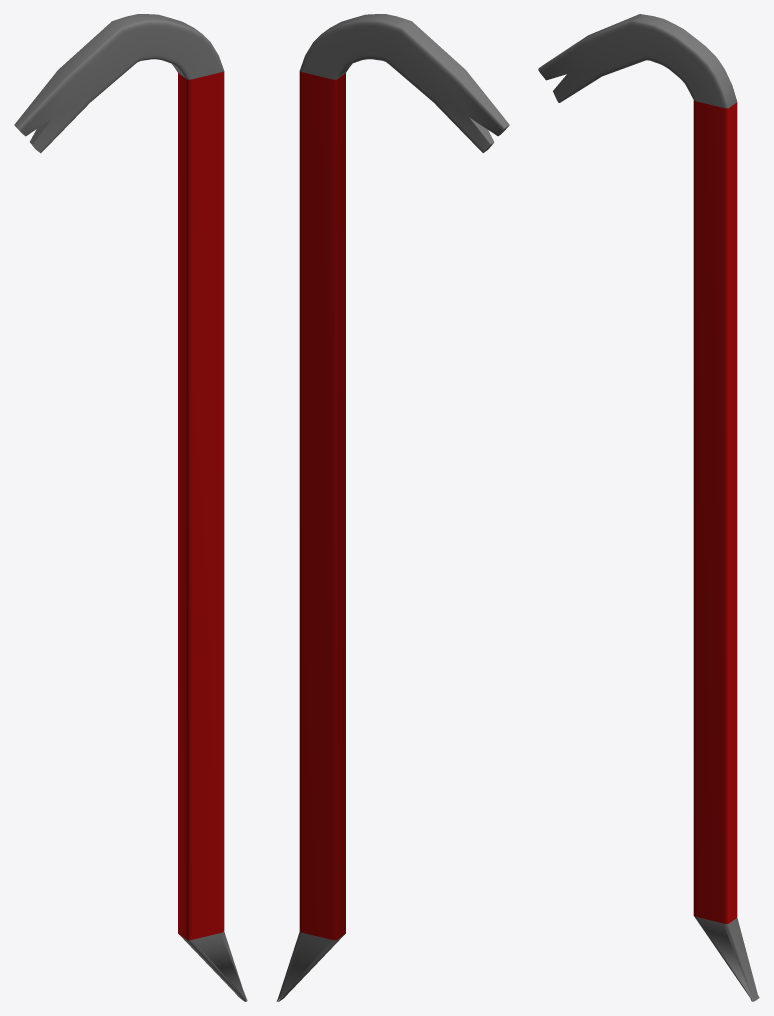
Rendered from Crowbar.FBX.
3 renders of one model, left to right at view 1: azimuth 30°, elevation 25°; view 2: azimuth 150°, elevation 25°; view 3: azimuth 330°, elevation 25°, orthographic. The views are drawn at different scales.
Parts seen in each view (by area): view 1: Crowbar; view 2: Crowbar; view 3: Crowbar.
Part boxes in pixels (<box>): Crowbar: <box>14,14,247,1001</box>; Crowbar: <box>276,14,509,1001</box>; Crowbar: <box>538,14,759,1001</box>.
Size of the model in its own units: 115 by 484 by 9.84.
